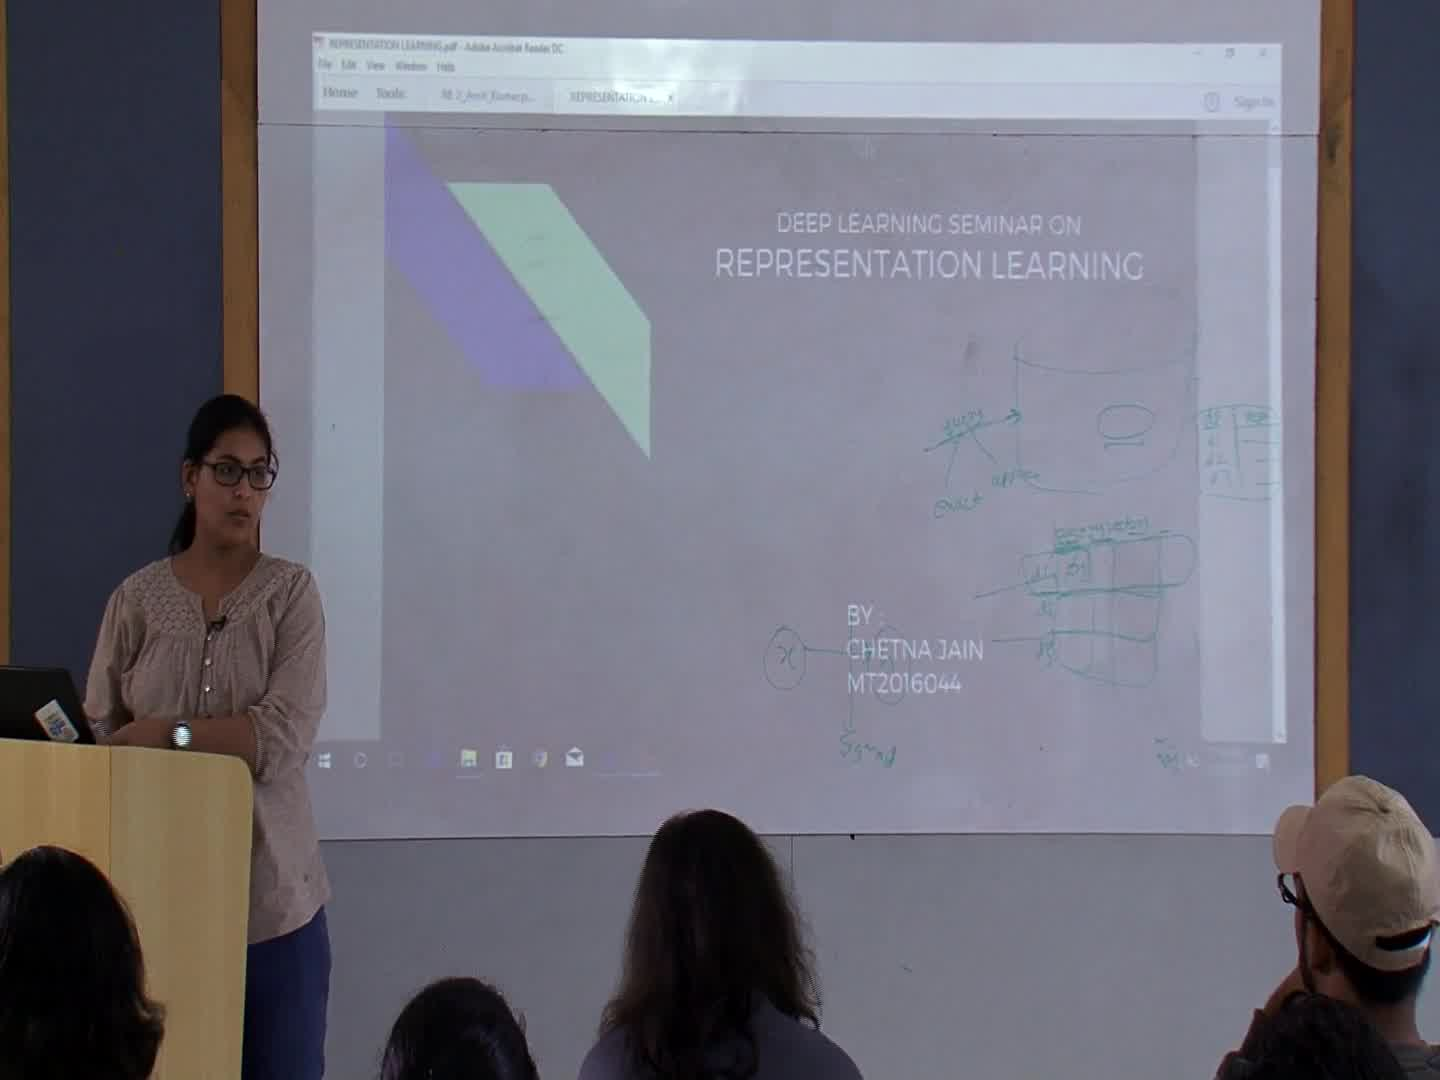slide: (310, 32, 1284, 786)
